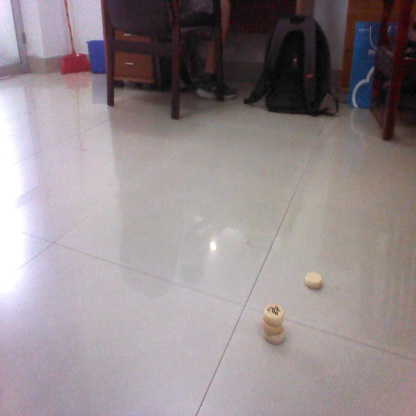chess: (261, 305, 289, 343), (304, 273, 325, 290)
